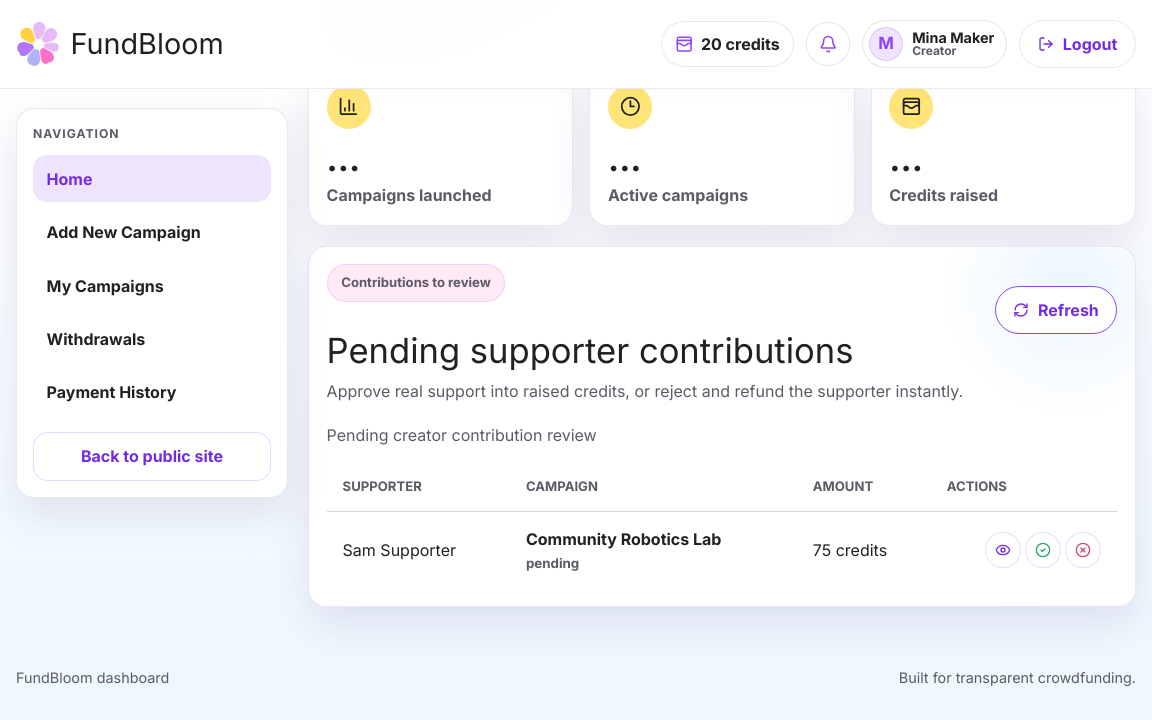
creator dashboard contribution review › lists pending contributions, opens detail, and approves with an idempotency key
(page scrolled)
Check: the heading "Pending supporter contributions" is shown, box [327, 330, 853, 371]
Check: the text "Sam Supporter" is shown, box [327, 512, 510, 588]
Click the button named "view contribution from sam supporter" at coordinates (1003, 550), box [985, 532, 1021, 568]
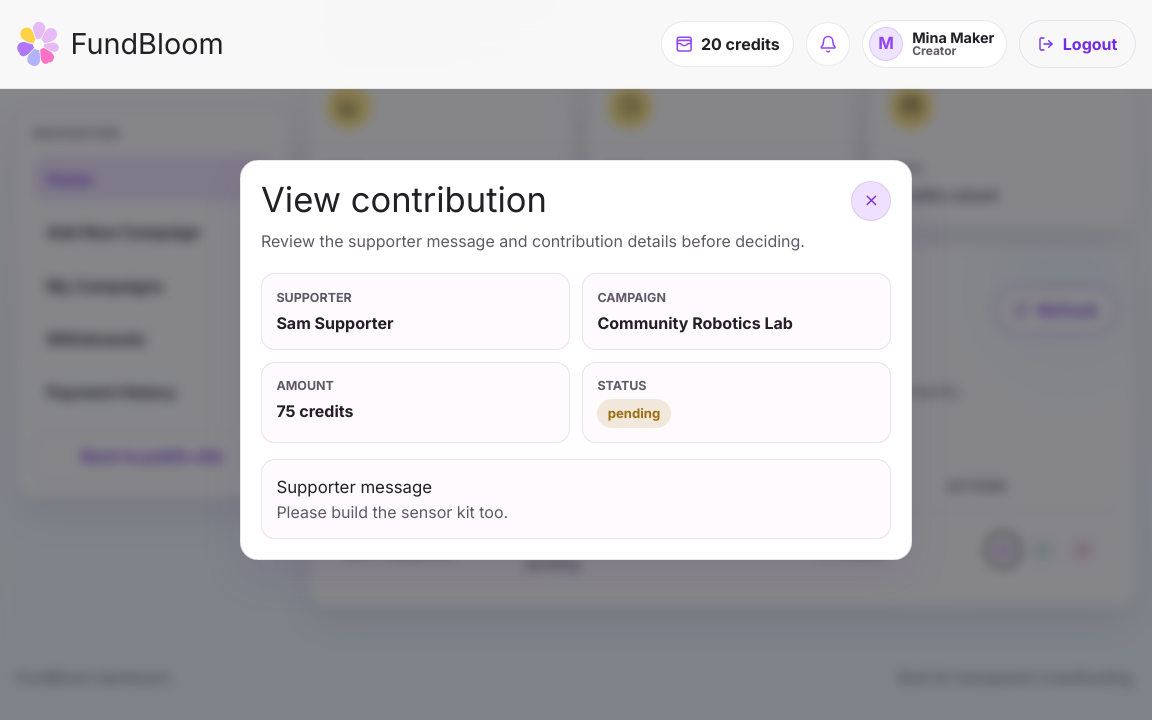
Check: the text "Please build the sensor kit too." is shown, box [276, 502, 508, 522]
Click the button named "close dialog" at coordinates (871, 201), box [851, 181, 891, 221]
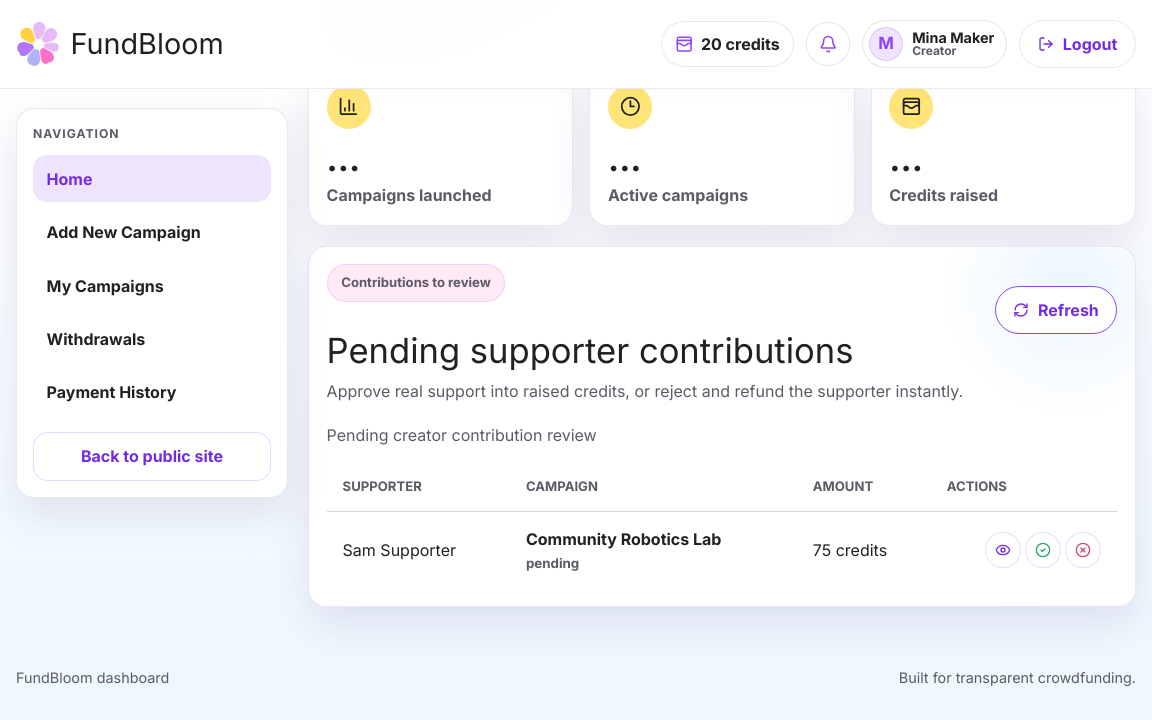
Click the button named "approve contribution from sam supporter" at coordinates (1043, 550), box [1025, 532, 1061, 568]
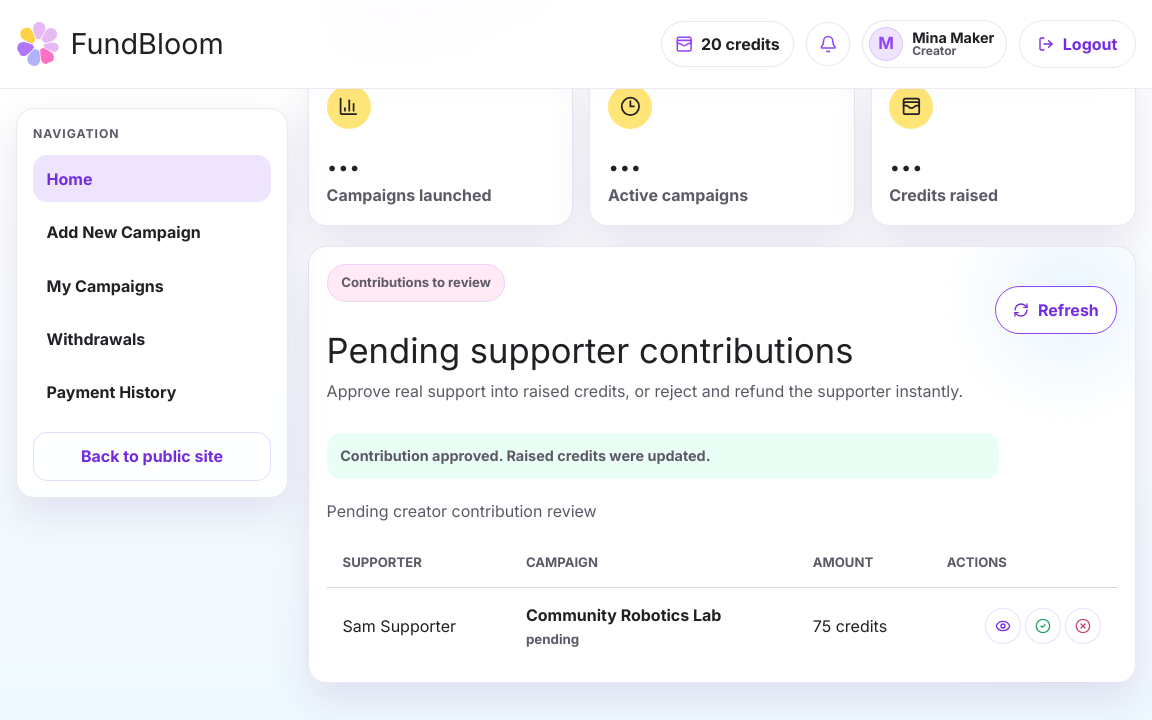
Check: the text "Contribution approved. Raised credits were updated." is shown, box [327, 433, 999, 479]
